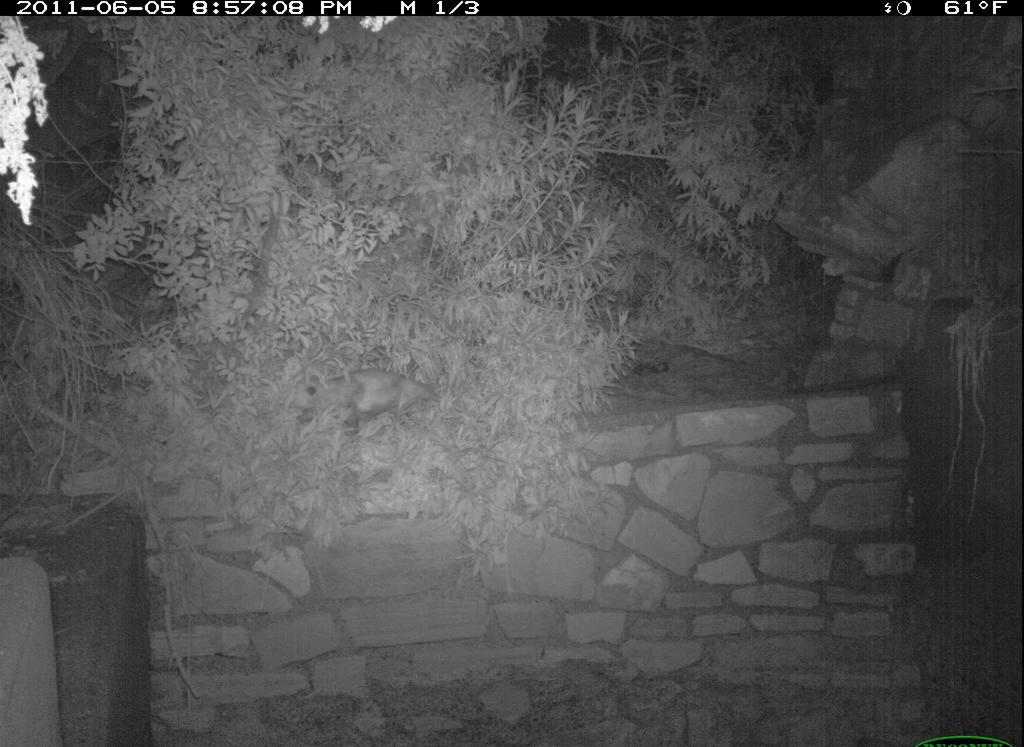opossum: (294, 354, 460, 452)
